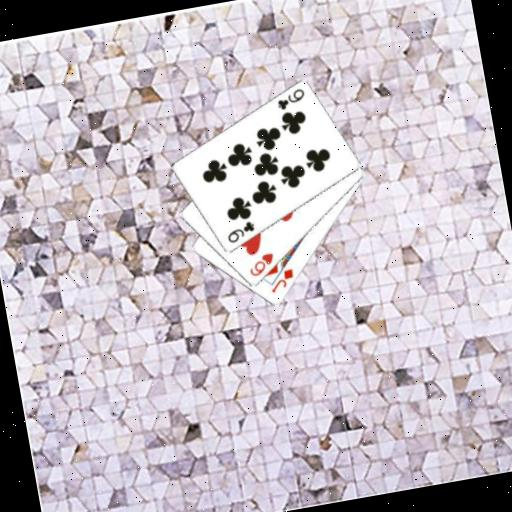6H: (244, 249, 278, 279)
9C: (222, 217, 259, 246), (272, 85, 308, 113)
JD: (265, 265, 298, 295)
